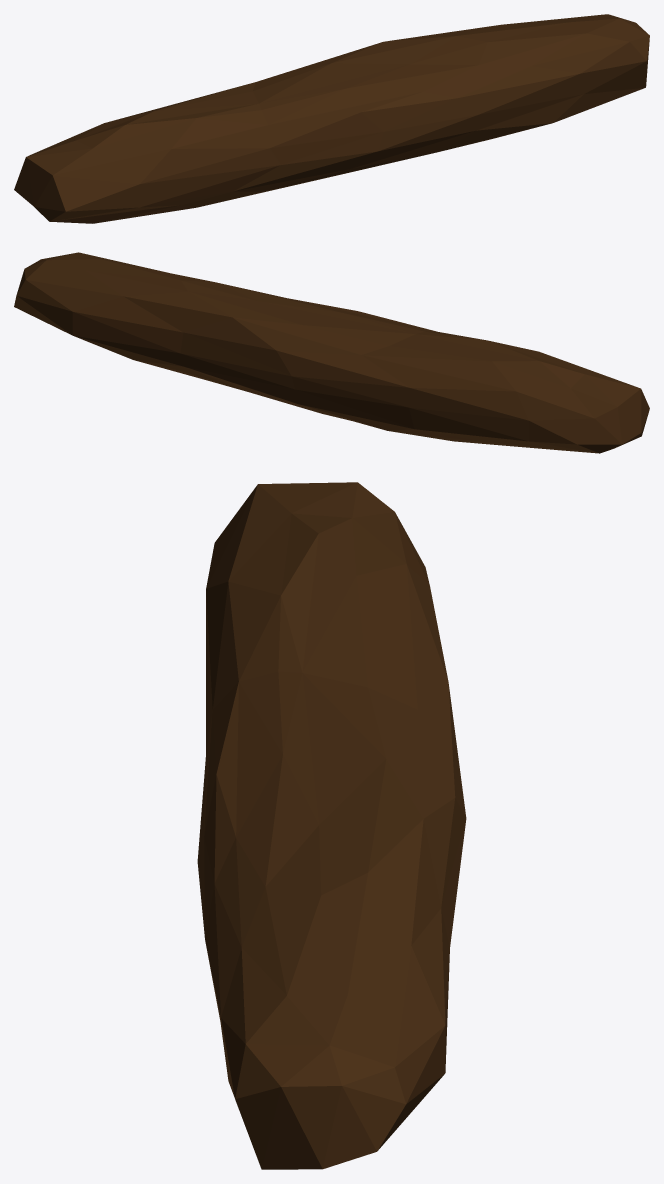
Rendered from Erde.fbx.
3 renders of one model, top to bottom at view 1: azimuth 30°, elevation 25°; view 2: azimuth 150°, elevation 25°; view 3: azimuth 270°, elevation 25°, orthographic. The views are drawn at different scales.
Visible parts, largest first — view 1: Erde; view 2: Erde; view 3: Erde.
Boxes of the visible parts, <box> form: Erde: <box>14,14,649,223</box>; Erde: <box>14,252,649,453</box>; Erde: <box>197,482,466,1169</box>.
Bounding box in the file's own units: 634 × 90.06 × 121.
